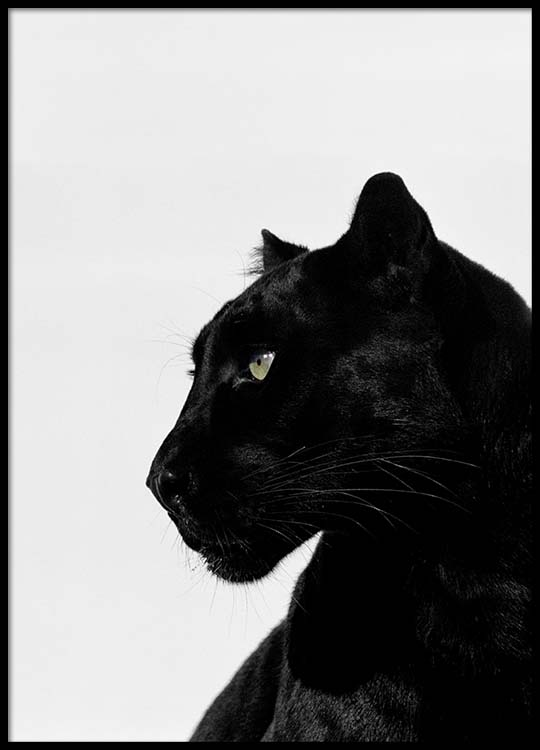panther: (140, 167, 540, 743)
